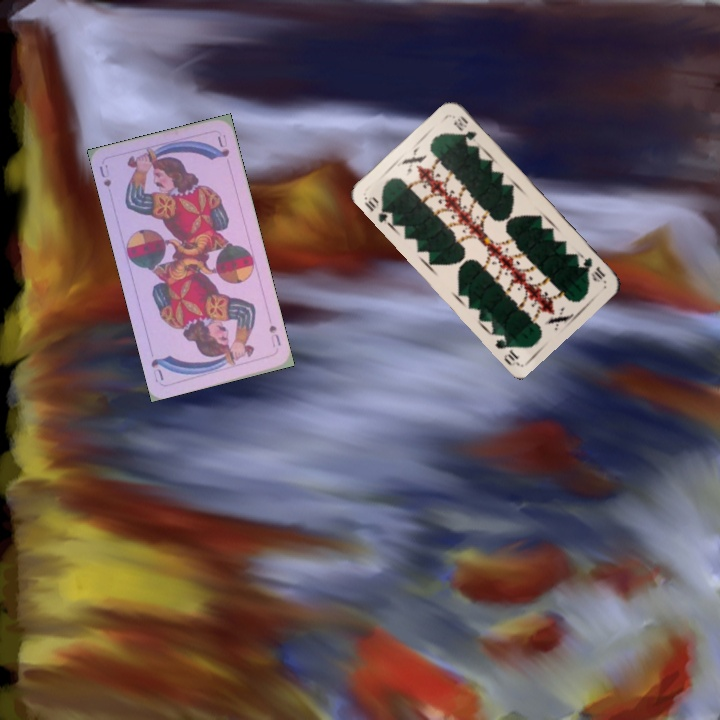G10: (360, 192, 396, 225), (579, 253, 608, 285)
SU: (95, 160, 114, 189), (265, 321, 283, 350)
